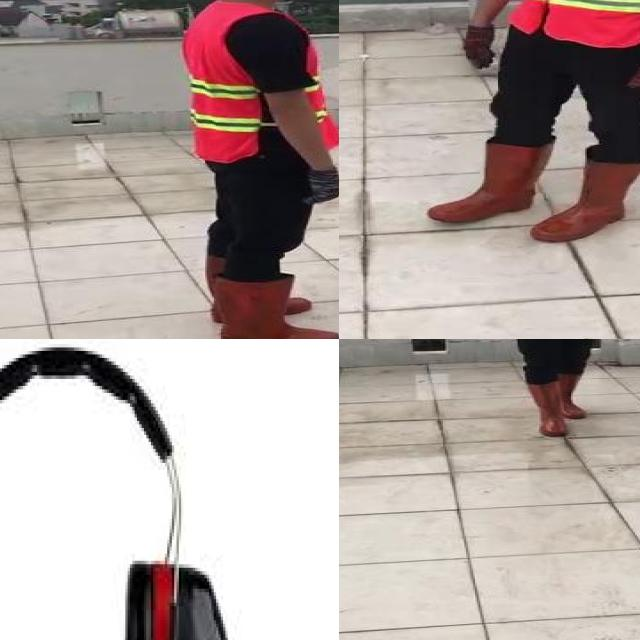Ear-protection: (0, 339, 246, 640)
boots: (429, 141, 551, 222), (532, 160, 640, 243), (212, 274, 339, 339), (532, 384, 567, 439), (557, 374, 585, 420)
hand_glove: (297, 168, 339, 206), (461, 26, 489, 68)
person: (165, 0, 339, 339), (416, 0, 640, 246), (477, 339, 640, 444)
vest: (181, 0, 336, 161), (507, 0, 640, 46)
